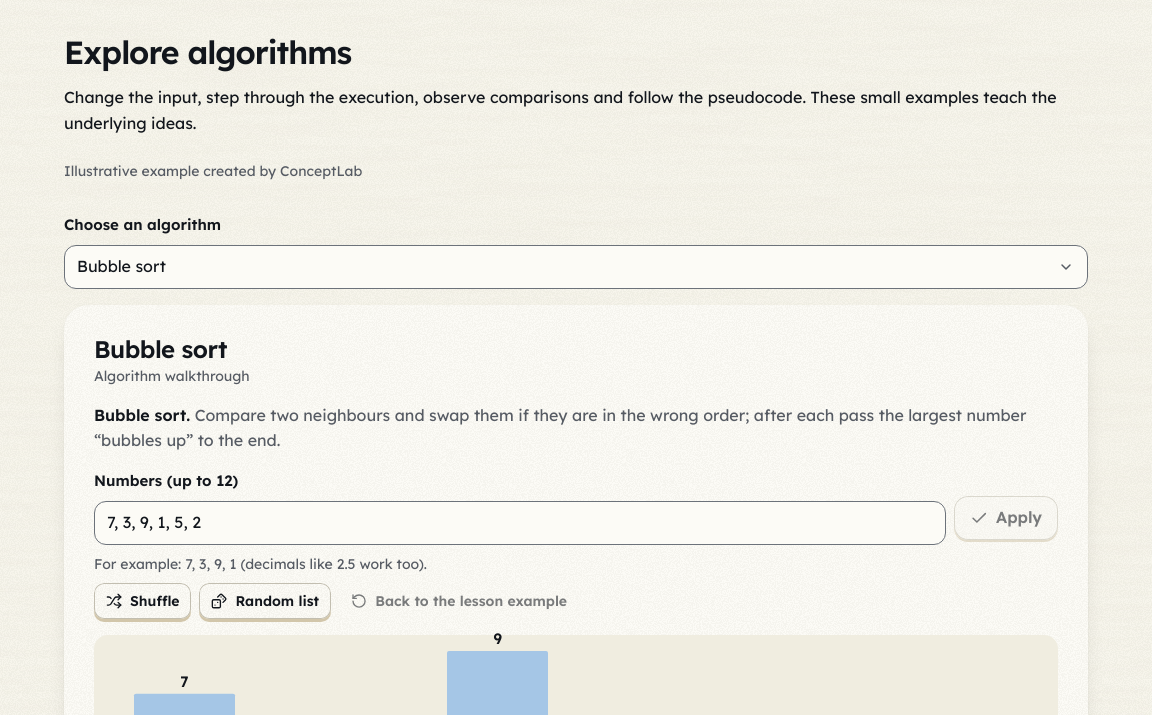
Test case: public algorithm lessons › opens a linear search in English without sorting its example
The image size is (1152, 715).
Select "Linear search" in the dropdown labelled "Choose an algorithm" at (576, 267), box [64,245,1088,289]
(page scrolled)
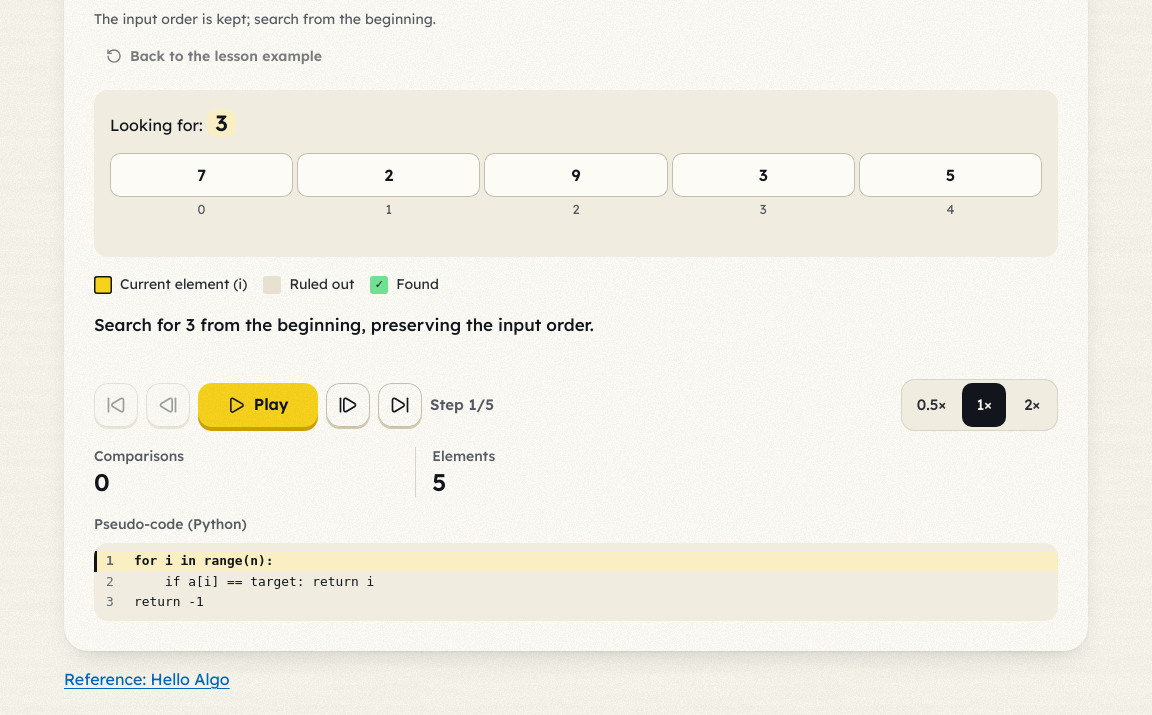
Expected: the text "The input order is kept; search from the beginning." is shown, [94,10,436,28]
Click the button named "Next step".
click(348, 405)  # box [326,383,370,427]
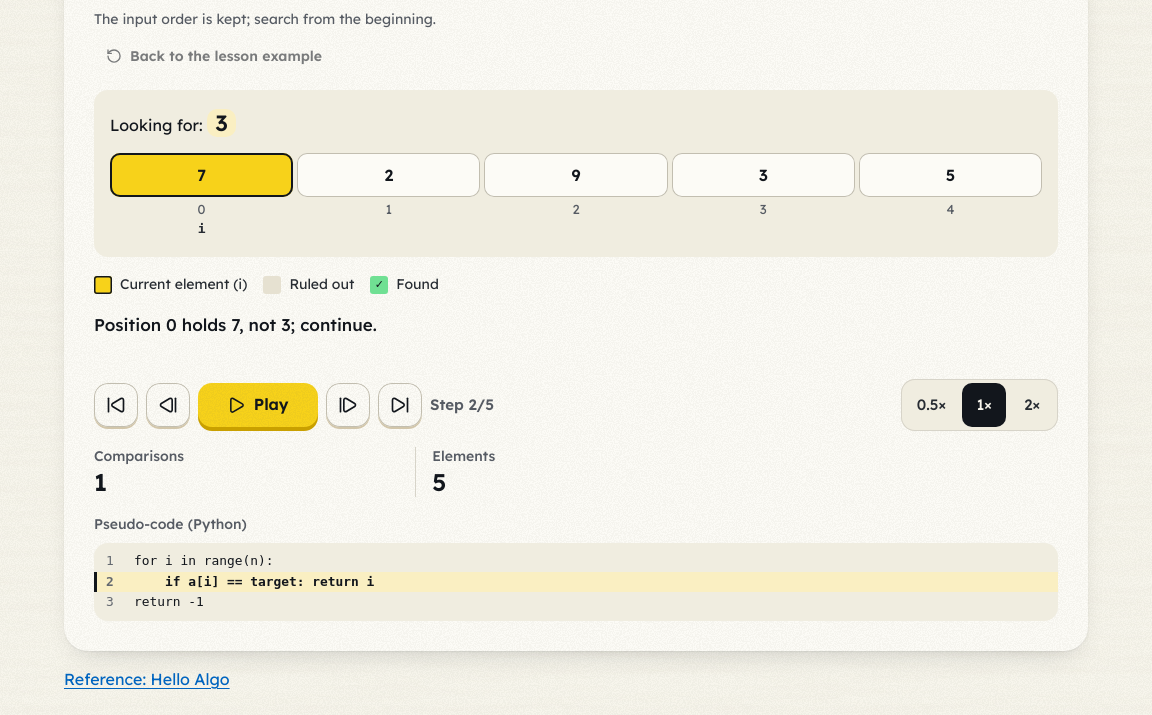
Expected: the text "Position 0 holds 7, not 3; continue." is shown, [94,314,377,335]
